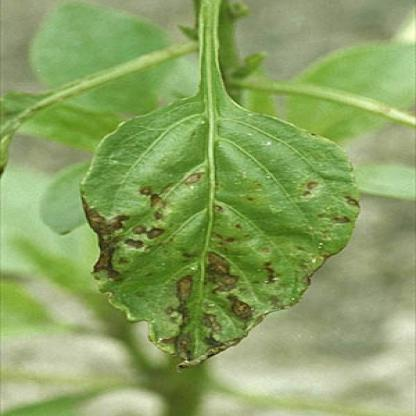Bell_pepper leaf: (69, 86, 371, 386)
